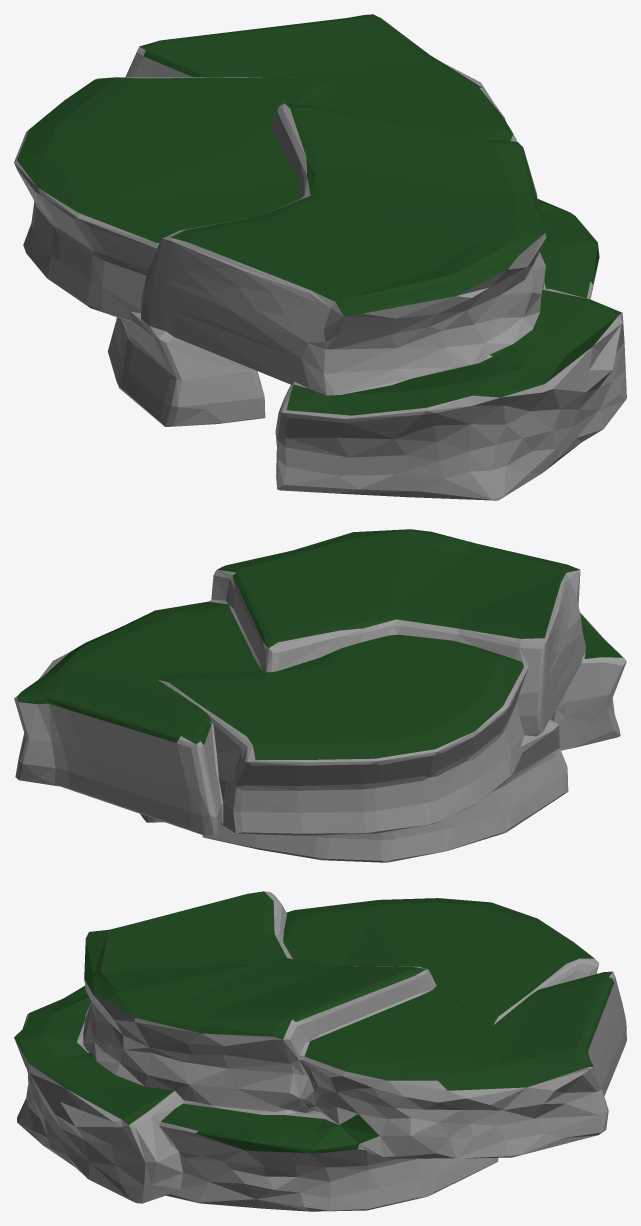
The model's file is Cliff_3.FBX.
3 renders of one model, top to bottom at view 1: azimuth 30°, elevation 25°; view 2: azimuth 150°, elevation 25°; view 3: azimuth 270°, elevation 25°, orthographic. The views are drawn at different scales.
Parts seen in each view (by area): view 1: Group57056; view 2: Group57056; view 3: Group57056.
Boxes of the visible parts, x1,y1,x2,y2 form: Group57056: [14, 14, 626, 500]; Group57056: [14, 529, 626, 862]; Group57056: [14, 891, 626, 1211].
Size of the model in its own units: 759 by 333 by 1048.
